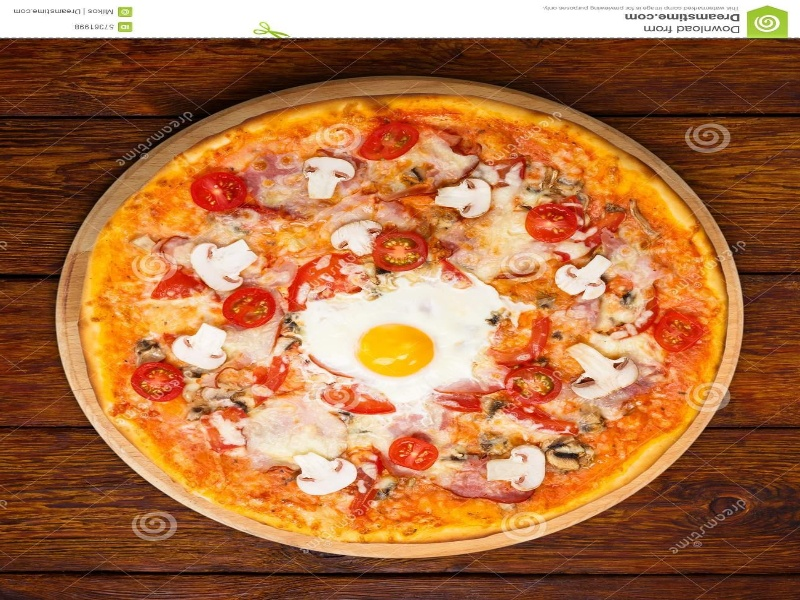champignon: (557, 334, 659, 399), (185, 232, 268, 299), (476, 437, 561, 499), (283, 447, 366, 500), (166, 320, 240, 372), (292, 154, 367, 204), (428, 173, 501, 220), (554, 250, 618, 301), (325, 217, 390, 259)
oeuf: (341, 305, 453, 383)
